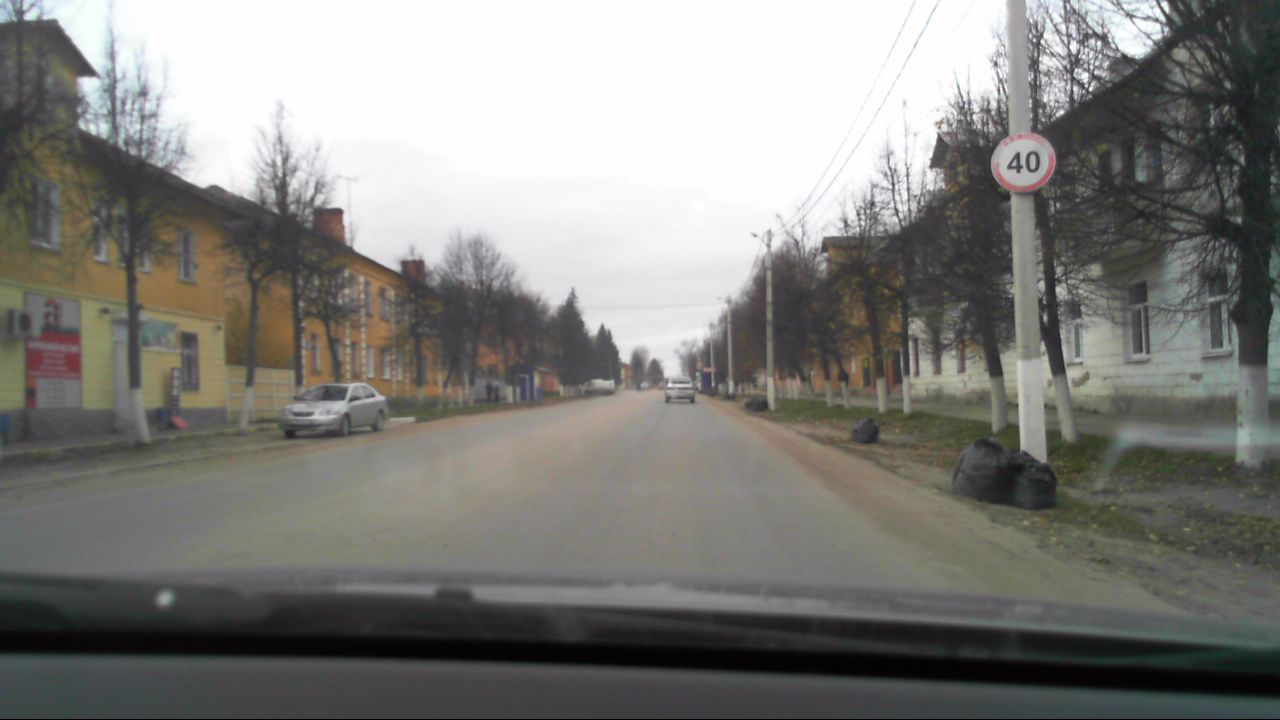speed_warning_40: (989, 131, 1055, 196)
